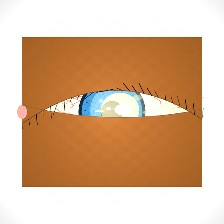corneal_ulcer: (89, 85, 151, 135)
